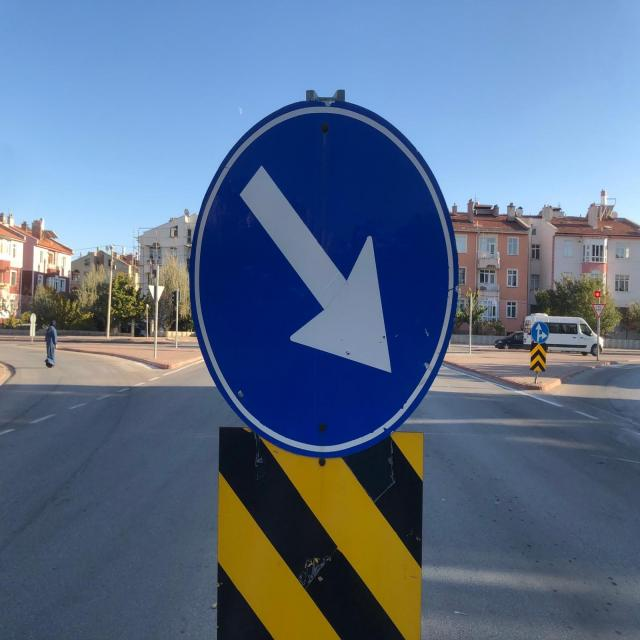compulsory_keep_right: (182, 77, 461, 460)
